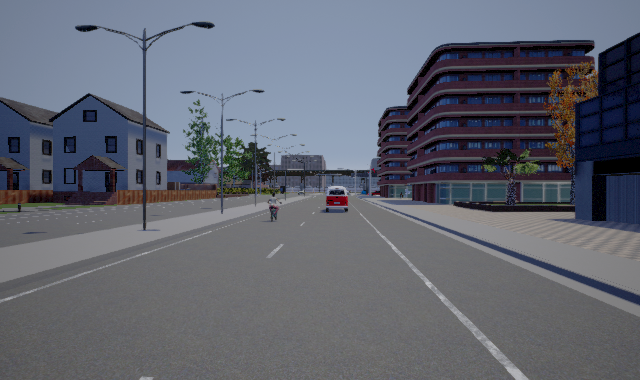bike: (265, 193, 284, 221)
vehicle: (325, 186, 352, 212)
